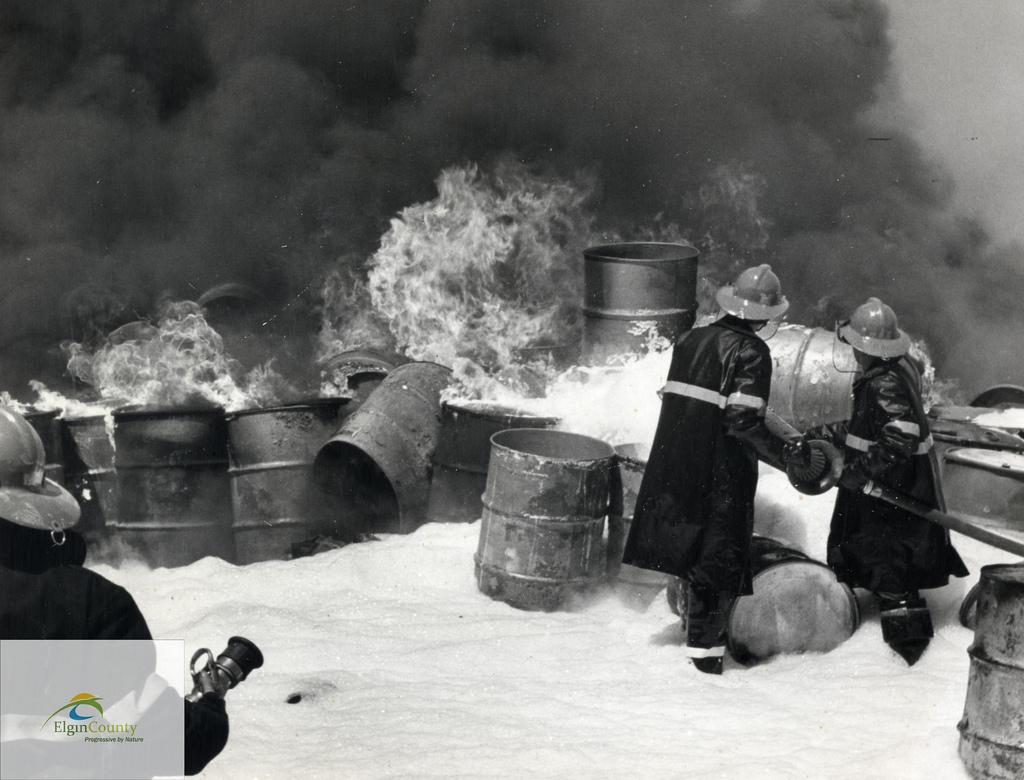fire: (384, 190, 512, 352), (550, 338, 678, 428)
